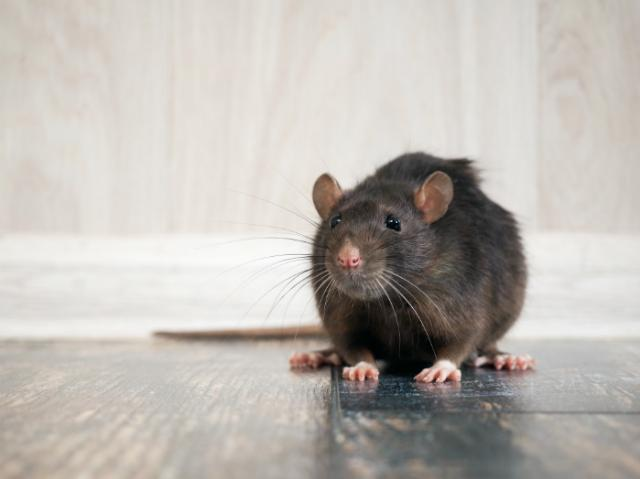rat: (258, 138, 552, 390)
